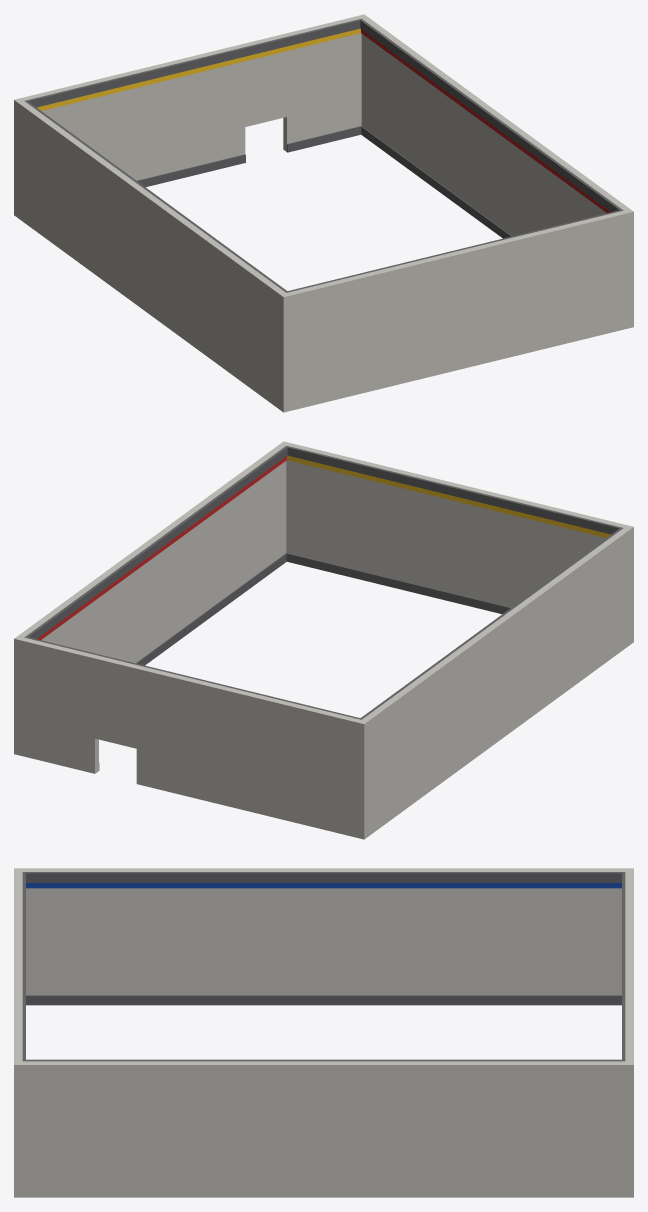
File: Muros.obj
3 views of the same model, one above another, from view 1: azimuth 30°, elevation 25°; view 2: azimuth 150°, elevation 25°; view 3: azimuth 270°, elevation 25° (orthographic). The views are drawn at different scales.
Visible parts, largest first — view 1: Muros; view 2: Muros; view 3: Muros.
Boxes of the visible parts, box(x1,y1,x2,y2) form: Muros: box(14, 14, 633, 412); Muros: box(14, 441, 633, 839); Muros: box(14, 868, 633, 1197).
Bounding box in the file's own units: 54 × 17 × 72.
Materials: 1 (1 with a texture image).
